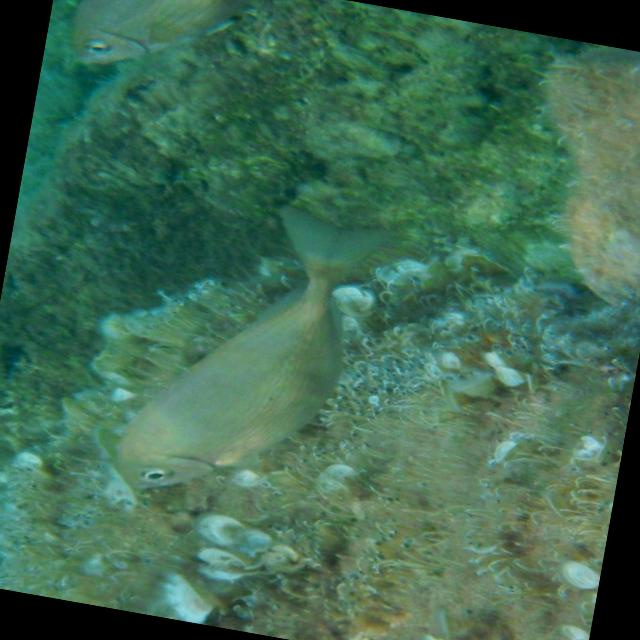Sokar Baligi: (80, 170, 406, 538)
